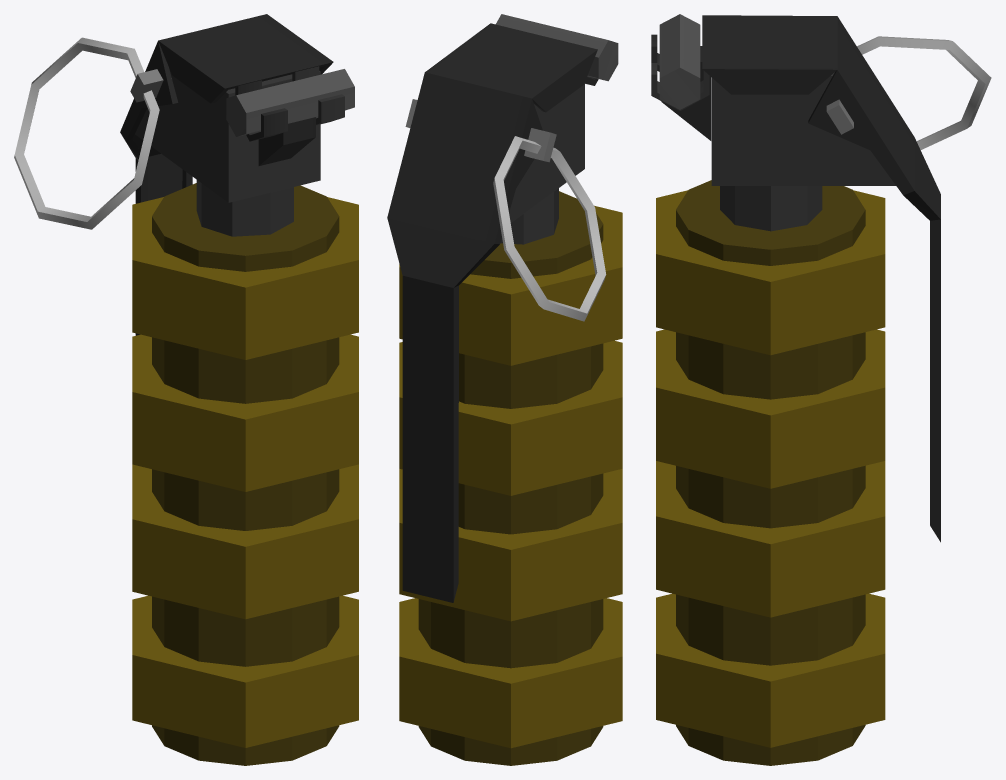
The model's file is Stun2.FBX.
The picture shows the model from 3 angles, left to right: view 1: azimuth 30°, elevation 25°; view 2: azimuth 150°, elevation 25°; view 3: azimuth 270°, elevation 25°; orthographic projection. The views are drawn at different scales.
Visible parts, largest first — view 1: Cylinder023, Sphere014, Object035, Object036; view 2: Cylinder023, Sphere014, Object035, Object036; view 3: Cylinder023, Sphere014, Object035.
Boxes of the visible parts, x1,y1,x2,y2 form: Cylinder023: (132, 183, 358, 765); Sphere014: (120, 14, 354, 335); Object035: (14, 37, 159, 229); Object036: (130, 69, 163, 102); Cylinder023: (399, 191, 622, 765); Sphere014: (387, 14, 618, 602); Object035: (493, 136, 606, 321); Object036: (405, 99, 556, 162); Cylinder023: (656, 180, 885, 765); Sphere014: (651, 14, 940, 542); Object035: (857, 36, 991, 149).
Bounding box in the file's own units: 0.1307 × 0.3304 × 0.1487.
